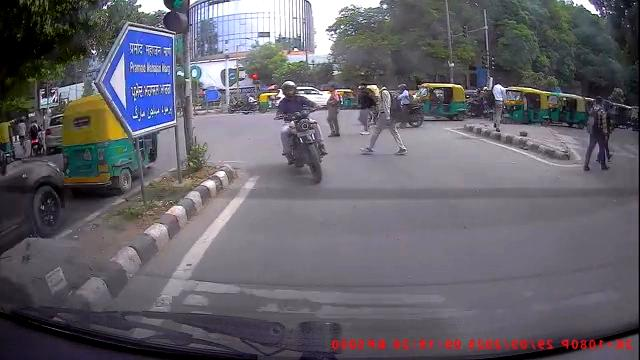motorcycle_with_helmet: (273, 79, 327, 183)
